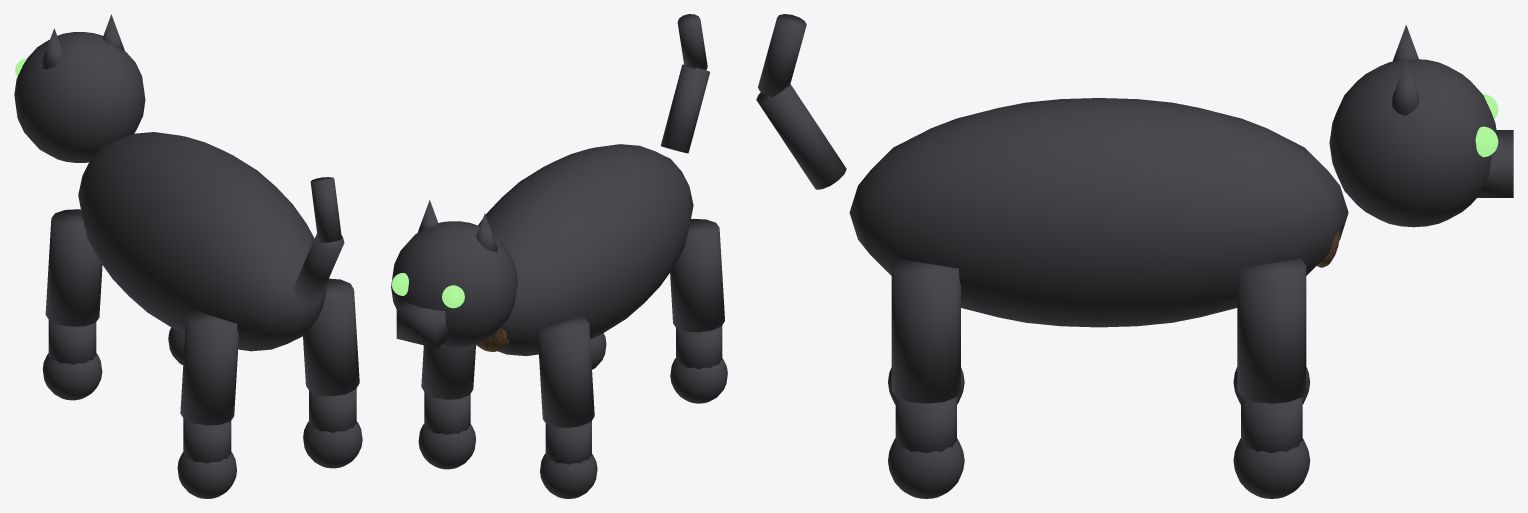
The model's file is cat-sith.glb.
3 renders of one model, left to right at view 1: azimuth 30°, elevation 25°; view 2: azimuth 150°, elevation 25°; view 3: azimuth 270°, elevation 25°, orthographic. The views are drawn at different scales.
Parts seen in each view (by area): view 1: Body, Head, LegUpper.001, LegUpper, LegUpper.003, Paw, Paw.003, Paw.001, TailUp1, LegLower, LegLower.001, LegLower.003 (+4 smaller); view 2: Body, Head, LegUpper, LegUpper.001, LegUpper.002, TailUp1, CatSnout, Paw.002, Paw.001, Paw, LegLower, LegLower.001 (+6 smaller); view 3: Body, Head, LegUpper.003, LegUpper.002, TailUp1, Paw.003, Paw.002, LegLower.003, LegLower.002, TailUp2, CatSnout, CatEar.001.
Boxes of the visible parts, bbox=[...] form: Body: bbox=[78, 132, 326, 351]; Head: bbox=[14, 32, 145, 162]; LegUpper.001: bbox=[180, 310, 238, 425]; LegUpper: bbox=[45, 209, 102, 326]; LegUpper.003: bbox=[303, 278, 359, 396]; Paw: bbox=[42, 353, 102, 400]; Paw.003: bbox=[303, 421, 362, 468]; Paw.001: bbox=[177, 452, 236, 498]; TailUp1: bbox=[293, 234, 344, 302]; LegLower: bbox=[48, 320, 96, 364]; LegLower.001: bbox=[183, 418, 231, 463]; LegLower.003: bbox=[309, 389, 356, 432]; Body: bbox=[478, 144, 693, 356]; Head: bbox=[391, 221, 517, 347]; LegUpper: bbox=[538, 316, 594, 427]; LegUpper.001: bbox=[670, 218, 724, 332]; LegUpper.002: bbox=[421, 344, 475, 399]; TailUp1: bbox=[660, 64, 709, 153]; CatSnout: bbox=[396, 301, 450, 348]; Paw.002: bbox=[418, 424, 475, 469]; Paw.001: bbox=[670, 358, 727, 403]; Paw: bbox=[540, 453, 597, 498]; LegLower: bbox=[545, 421, 591, 464]; LegLower.001: bbox=[676, 325, 722, 369]; Body: bbox=[849, 98, 1348, 327]; Head: bbox=[1329, 59, 1497, 227]; LegUpper.003: bbox=[891, 258, 960, 403]; LegUpper.002: bbox=[1237, 258, 1306, 403]; TailUp1: bbox=[756, 84, 846, 189]; Paw.003: bbox=[888, 438, 964, 498]; Paw.002: bbox=[1233, 438, 1310, 498]; LegLower.003: bbox=[895, 397, 956, 453]; LegLower.002: bbox=[1241, 396, 1302, 453]; TailUp2: bbox=[758, 14, 806, 97]; CatSnout: bbox=[1476, 130, 1513, 197]; CatEar.001: bbox=[1392, 60, 1419, 115].
Bounding box in the file's own units: 0.543 × 1 × 1.57.
Materials: 3 (1 with a texture image).
